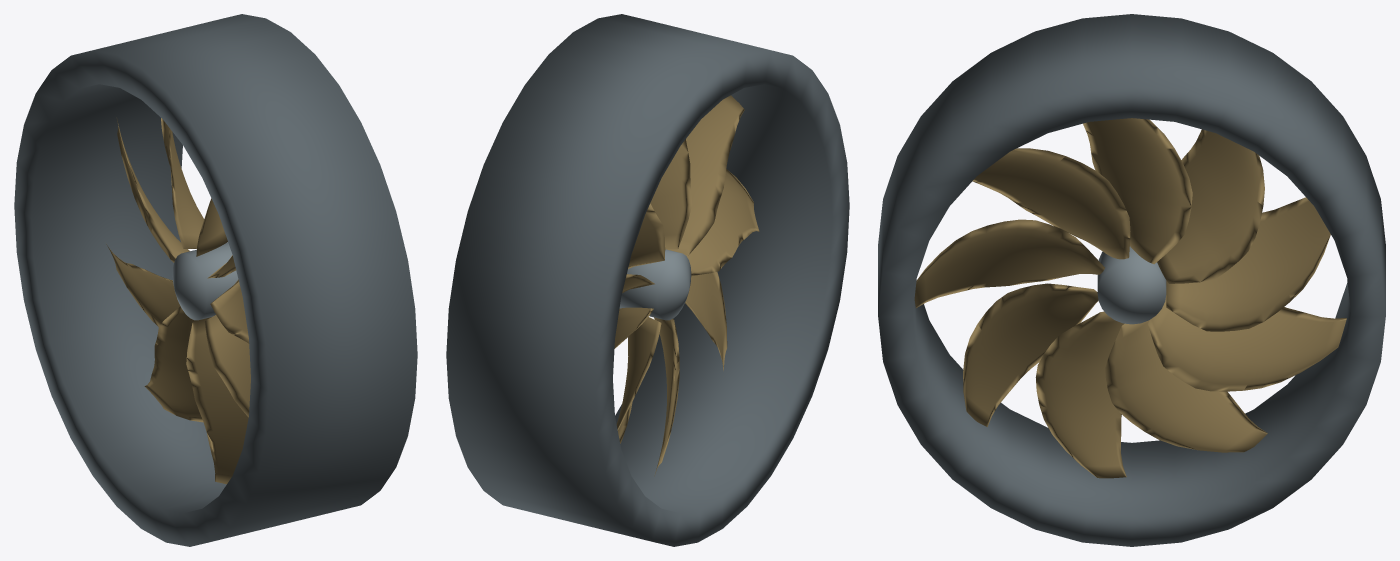
The model's file is THRUSTER_RIM_DRIVEN_COMBINED.fbx.
3 renders of one model, left to right at view 1: azimuth 30°, elevation 25°; view 2: azimuth 150°, elevation 25°; view 3: azimuth 270°, elevation 25°, orthographic.
Visible parts, largest first — view 1: THRUSTER_RIM_DRIVEN.001; view 2: THRUSTER_RIM_DRIVEN.001; view 3: THRUSTER_RIM_DRIVEN.001.
Boxes of the visible parts, x1,y1,x2,y2 form: THRUSTER_RIM_DRIVEN.001: [14, 14, 417, 546]; THRUSTER_RIM_DRIVEN.001: [446, 14, 849, 546]; THRUSTER_RIM_DRIVEN.001: [878, 14, 1385, 546].
Size of the model in its own units: 55 by 162 by 162.
